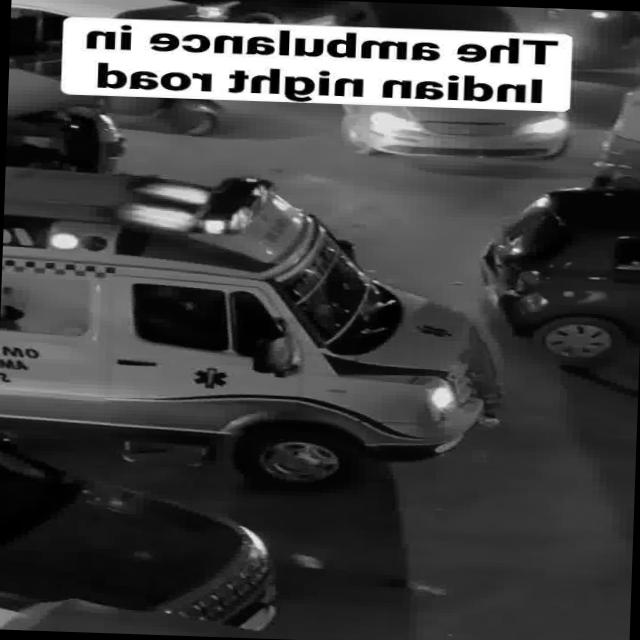ambulance: (0, 167, 499, 479)
